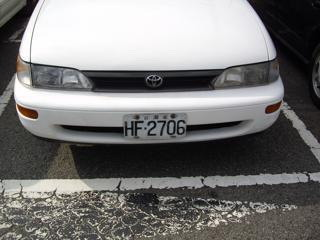plate: (120, 113, 187, 142)
